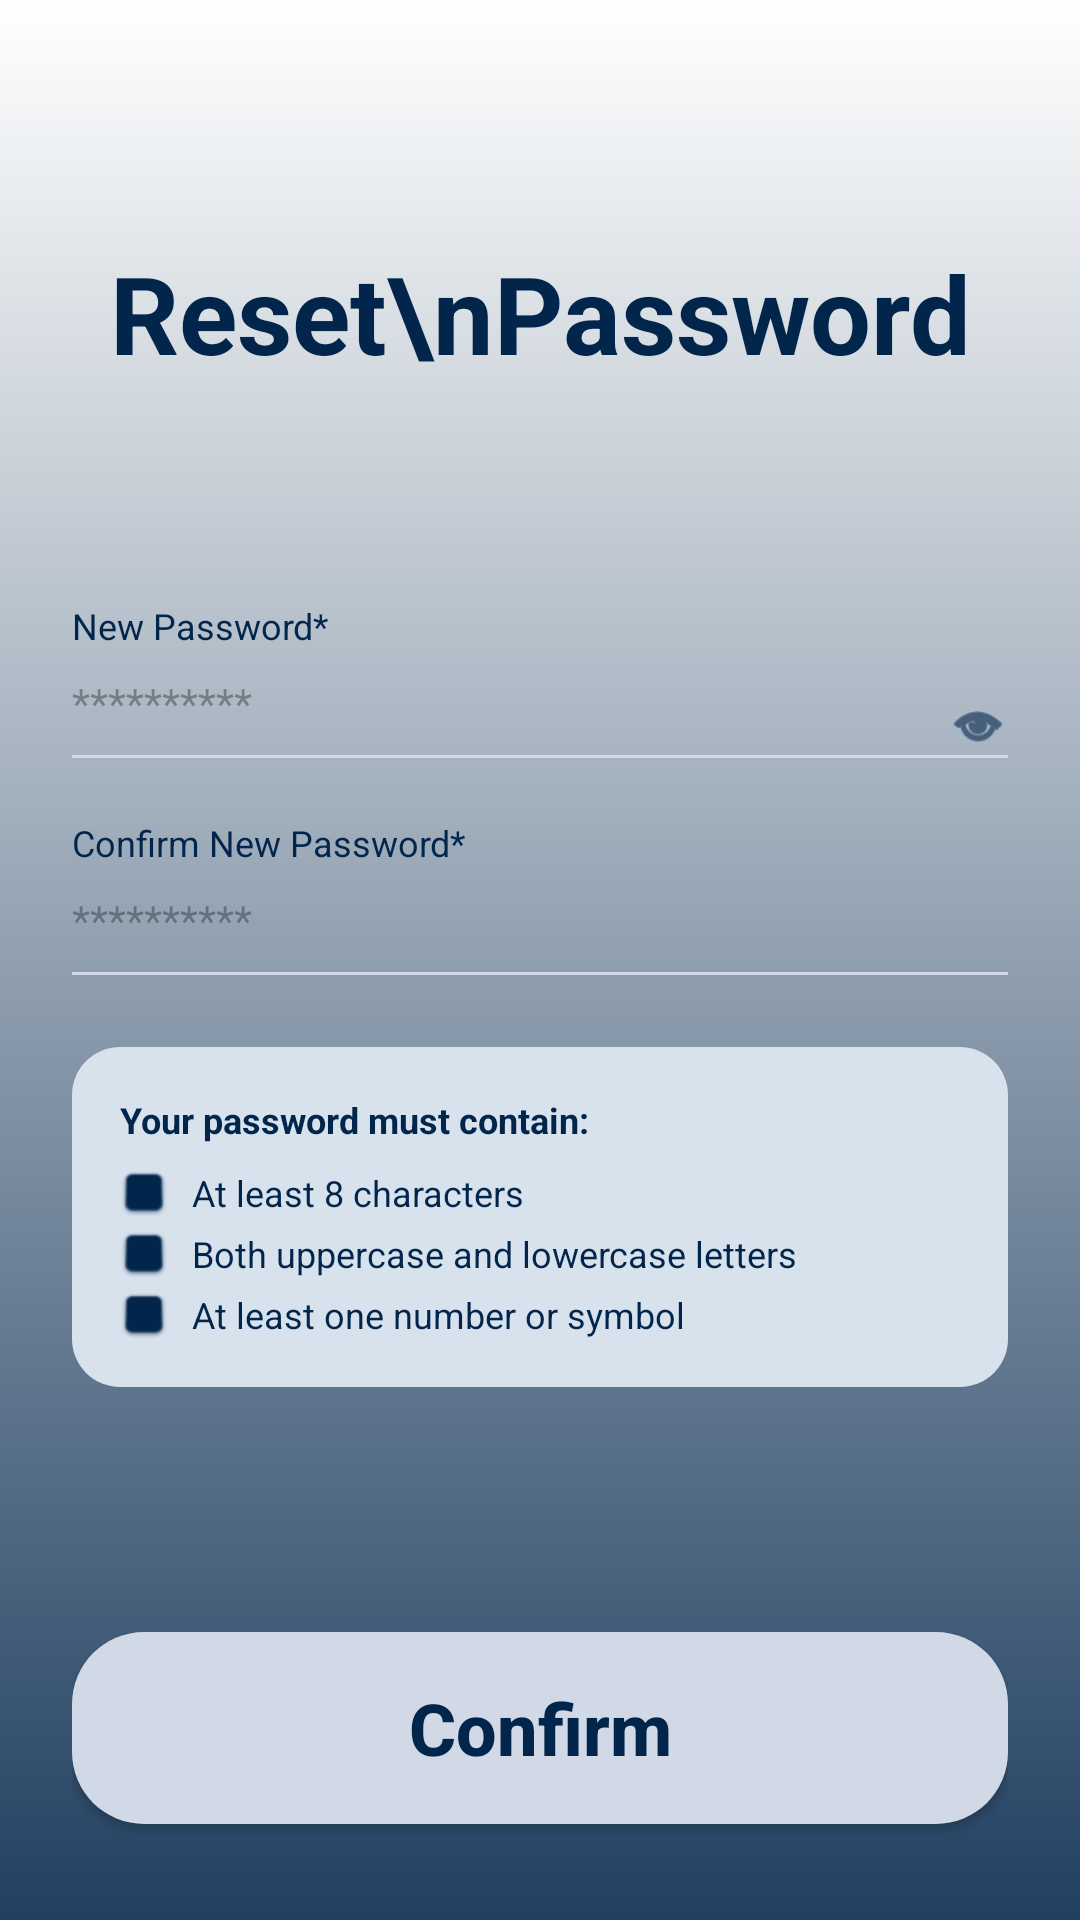

Screen size 1080w x 1920h. Icon name, then its box in pixels as bbox(x1, y1, x2, y2):
view: bbox(954, 711, 1002, 742)
